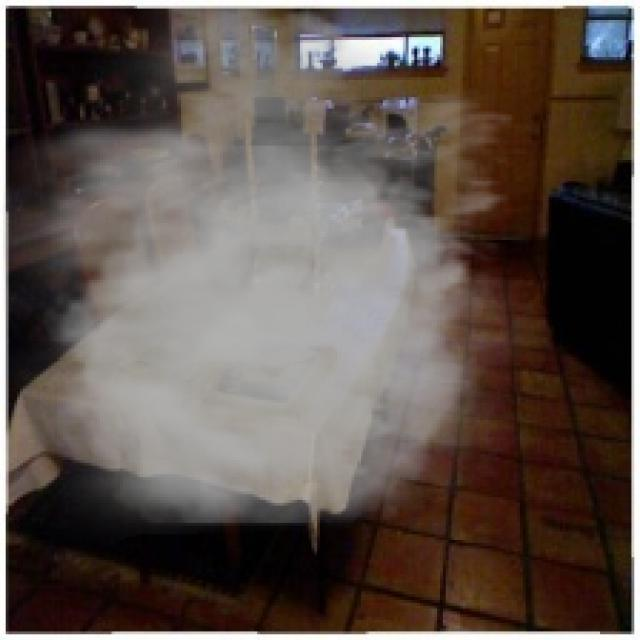Smoke: (2, 5, 568, 558)
